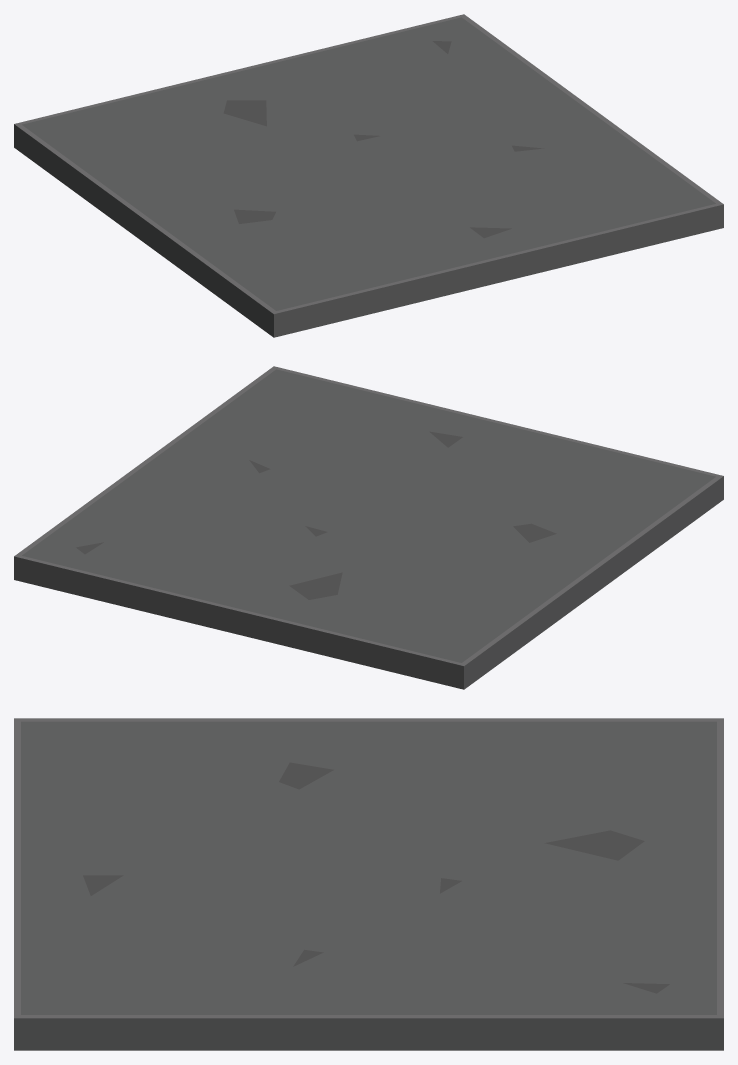
File: ConcrateSlabs_B_1_2.glb
The picture shows the model from 3 angles, top to bottom: view 1: azimuth 30°, elevation 25°; view 2: azimuth 150°, elevation 25°; view 3: azimuth 270°, elevation 25°; orthographic projection. The views are drawn at different scales.
Visible parts, largest first — view 1: ConcrateSlabs_B_1_2; view 2: ConcrateSlabs_B_1_2; view 3: ConcrateSlabs_B_1_2.
Boxes of the visible parts, box(x1,y1,x2,y2) form: ConcrateSlabs_B_1_2: box(14, 14, 723, 337); ConcrateSlabs_B_1_2: box(14, 366, 723, 689); ConcrateSlabs_B_1_2: box(14, 718, 723, 1050).
Bounding box in the file's own units: 8 × 0.4 × 8.
Materials: 1 (1 with a texture image).
